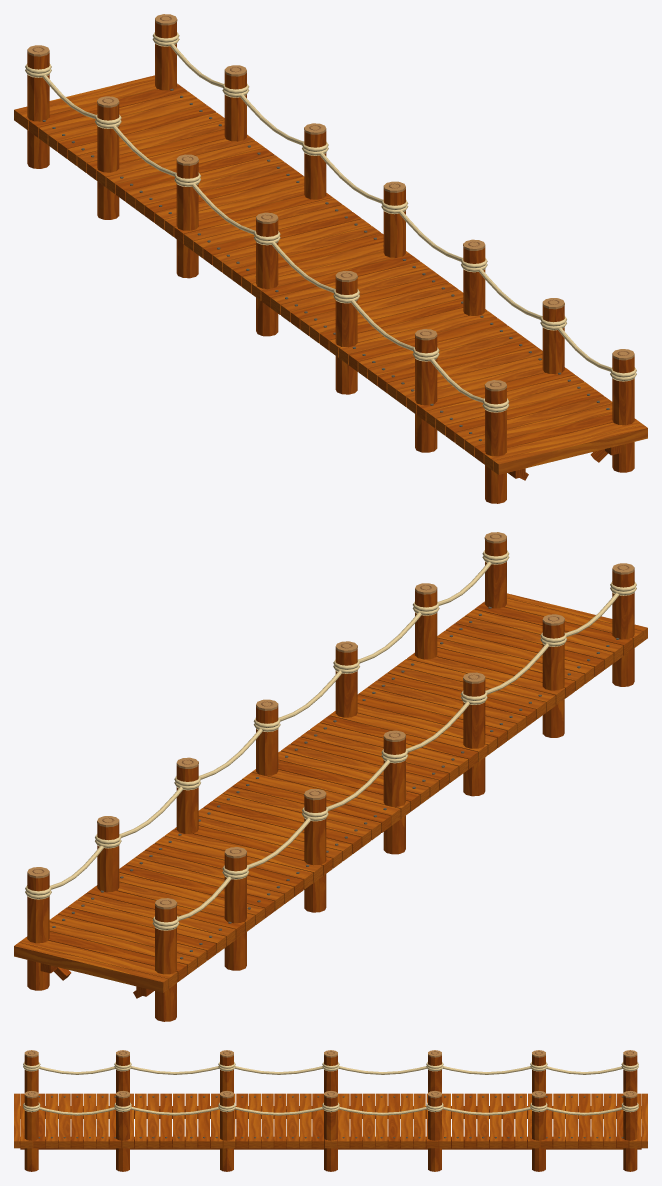
Rendered from wooden-bridge-10.gltf.
3 renders of one model, top to bottom at view 1: azimuth 30°, elevation 25°; view 2: azimuth 150°, elevation 25°; view 3: azimuth 270°, elevation 25°, orthographic. The views are drawn at different scales.
Parts seen in each view (by area): view 1: wooden-bridge-10; view 2: wooden-bridge-10; view 3: wooden-bridge-10.
Part boxes in pixels (x1=…): wooden-bridge-10: x1=14, y1=14, x2=647, y2=503; wooden-bridge-10: x1=14, y1=532, x2=647, y2=1021; wooden-bridge-10: x1=14, y1=1050, x2=647, y2=1171.
Bounding box in the file's own units: 1.8 × 1.31 × 10.
Materials: 2 (1 with a texture image).
